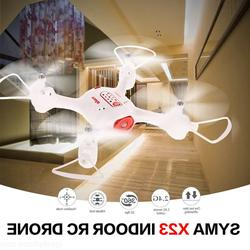drone: (1, 45, 233, 182)
